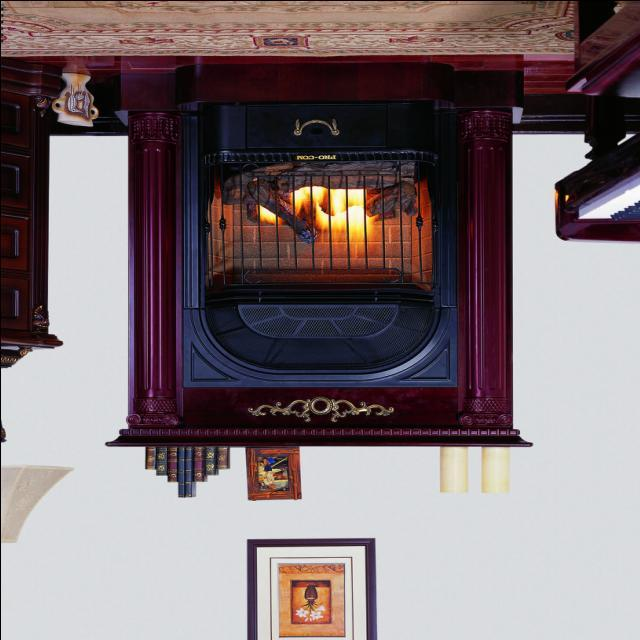Fire: (244, 178, 404, 272)
